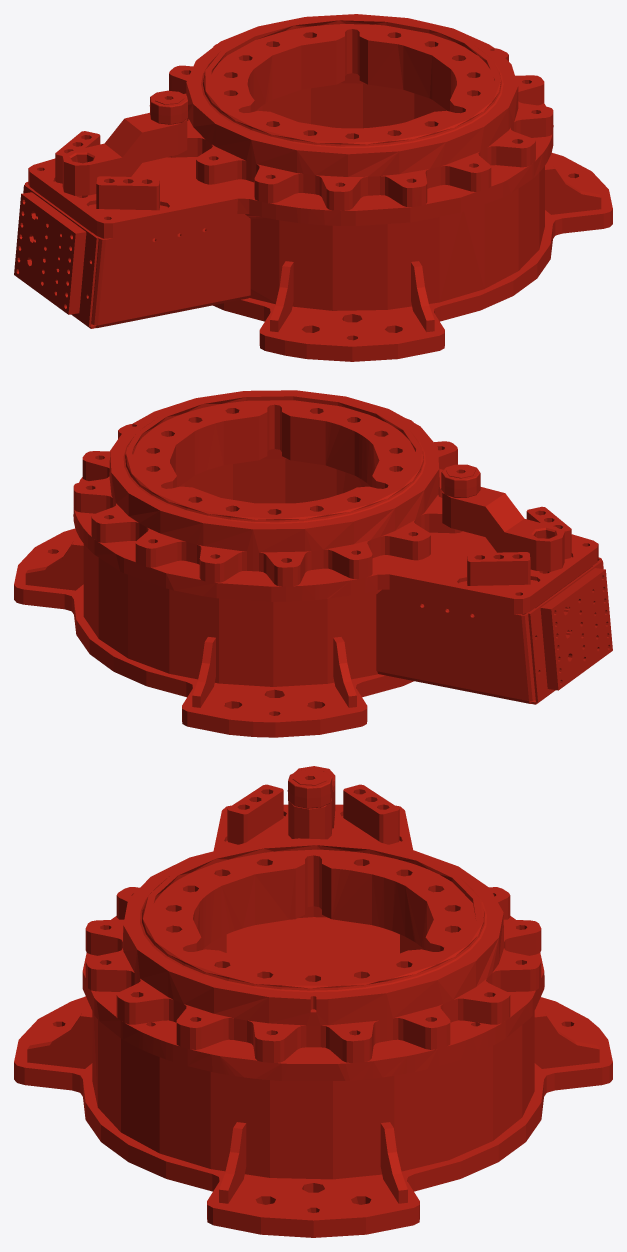
The picture shows the model from 3 angles, top to bottom: view 1: azimuth 30°, elevation 25°; view 2: azimuth 150°, elevation 25°; view 3: azimuth 270°, elevation 25°; orthographic projection. The views are drawn at different scales.
Visible parts, largest first — view 1: Base; view 2: Base; view 3: Base.
Boxes of the visible parts, x1=… form: Base: x1=14, y1=14, x2=612, y2=361; Base: x1=14, y1=390, x2=612, y2=737; Base: x1=14, y1=766, x2=612, y2=1237.
Size of the model in its own units: 0.7585 by 0.6219 by 0.2544.
